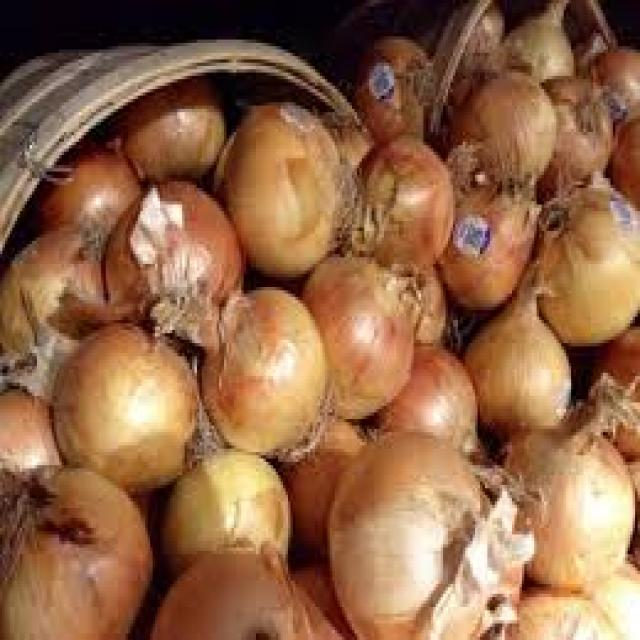organic waste: (325, 422, 529, 637), (504, 363, 638, 587), (0, 455, 150, 637), (212, 96, 347, 280), (49, 320, 194, 488), (458, 231, 571, 439), (98, 178, 239, 343), (0, 218, 148, 370), (345, 69, 453, 274), (194, 284, 325, 452), (526, 178, 638, 343), (160, 442, 288, 581), (148, 548, 344, 636), (436, 165, 536, 310), (283, 409, 372, 558), (374, 336, 478, 456), (453, 66, 554, 181), (118, 69, 224, 178), (532, 69, 613, 211), (37, 145, 145, 244), (576, 316, 638, 448), (354, 30, 431, 132), (0, 369, 66, 481), (281, 551, 357, 637), (509, 577, 613, 637), (497, 0, 574, 76), (581, 46, 637, 142), (443, 7, 502, 92), (389, 257, 445, 340), (603, 112, 638, 221), (593, 554, 638, 637), (622, 452, 638, 564), (569, 29, 603, 72)
